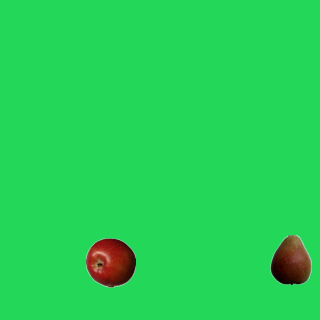Apple Braeburn: (85, 237, 135, 287)
Pear Forelle: (265, 234, 315, 284)
